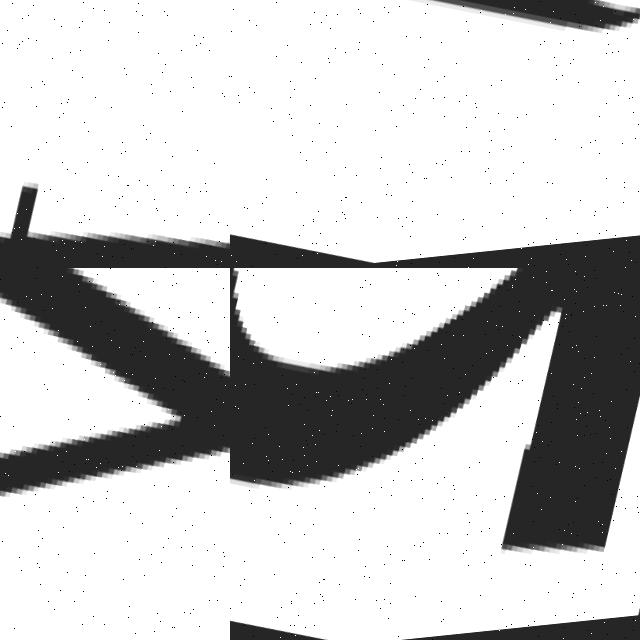2: (230, 268, 640, 626)
J: (230, 0, 640, 112)
Y: (0, 268, 230, 640)
